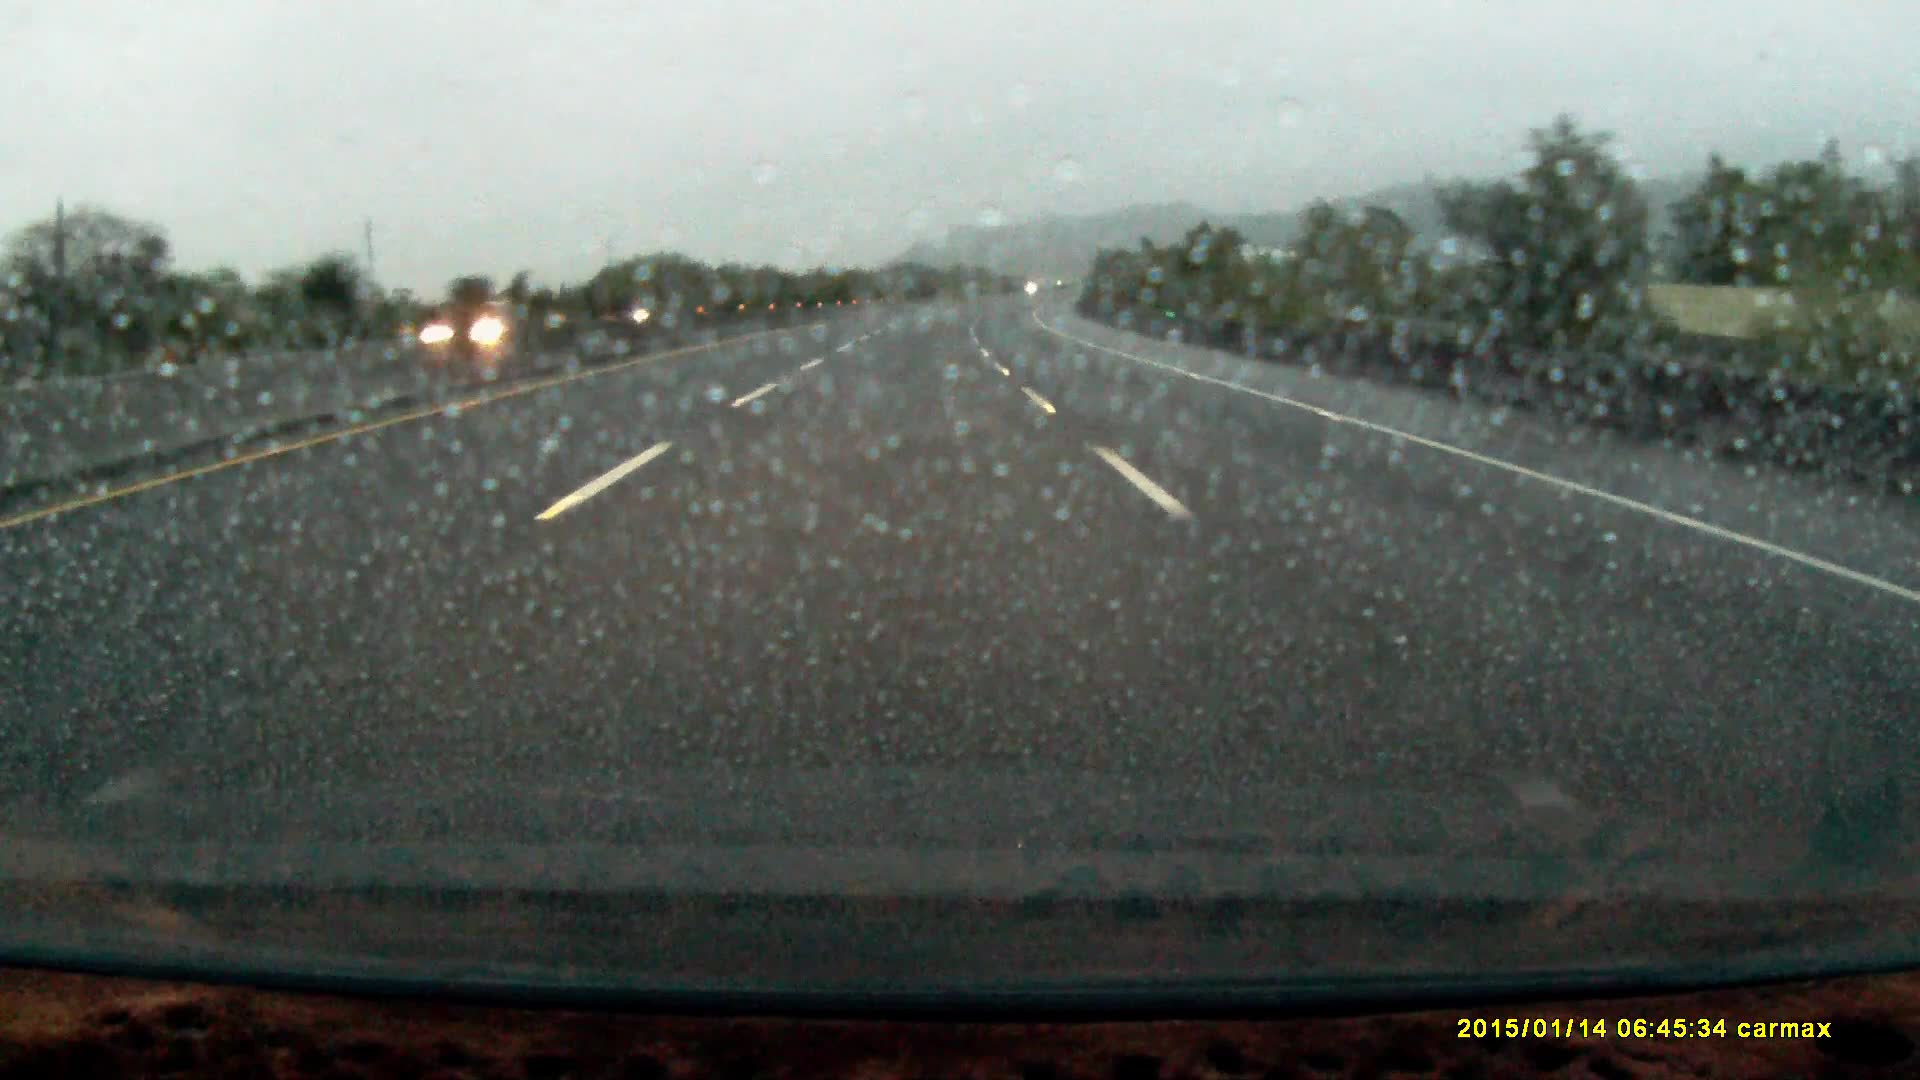vehicle: (421, 299, 564, 342), (607, 295, 680, 326)
